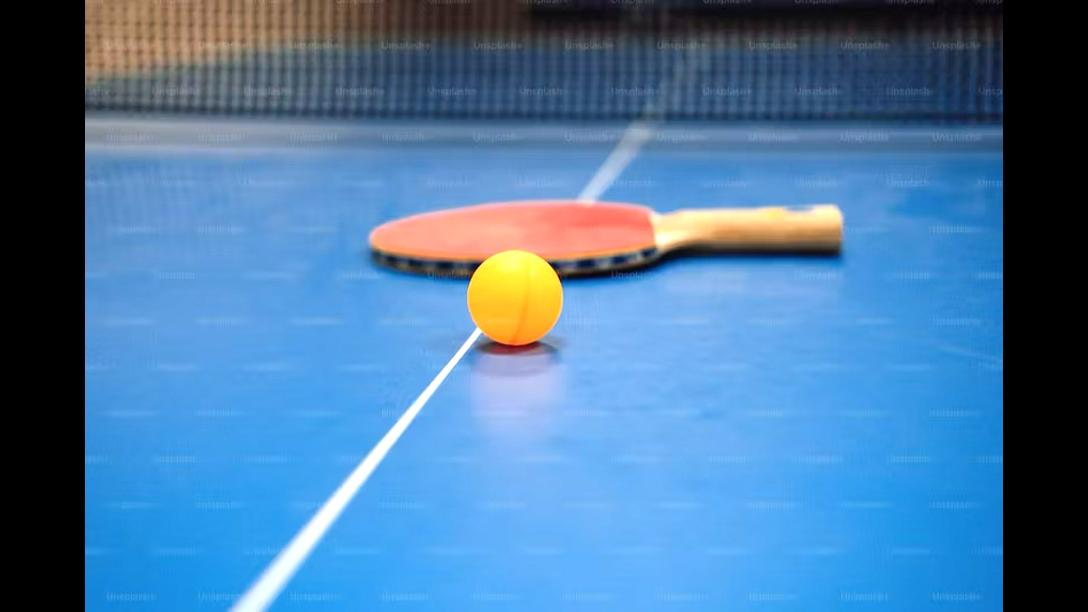Table-Tennis-Ball: (468, 250, 564, 344)
